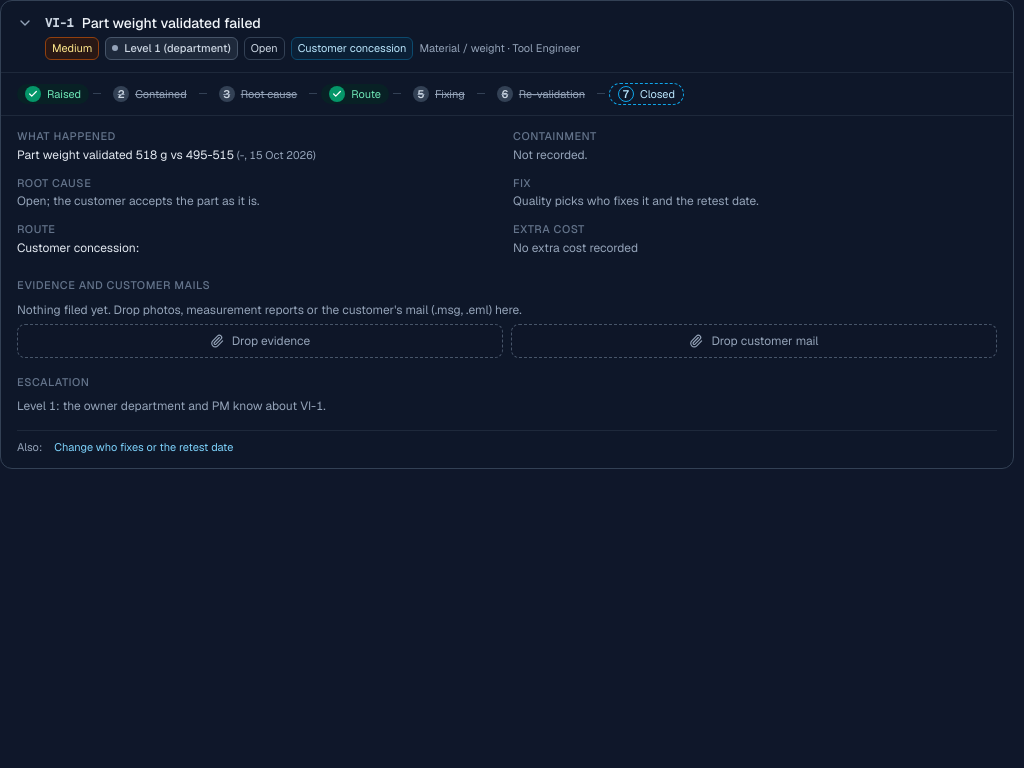
Scenario: Fix task › after the pick (and beside a concession) Quality may change it: a quiet re-pick
Step 1. Click the button with test id "issue-act-refix-11" → (144, 447), box [54,439,233,456]
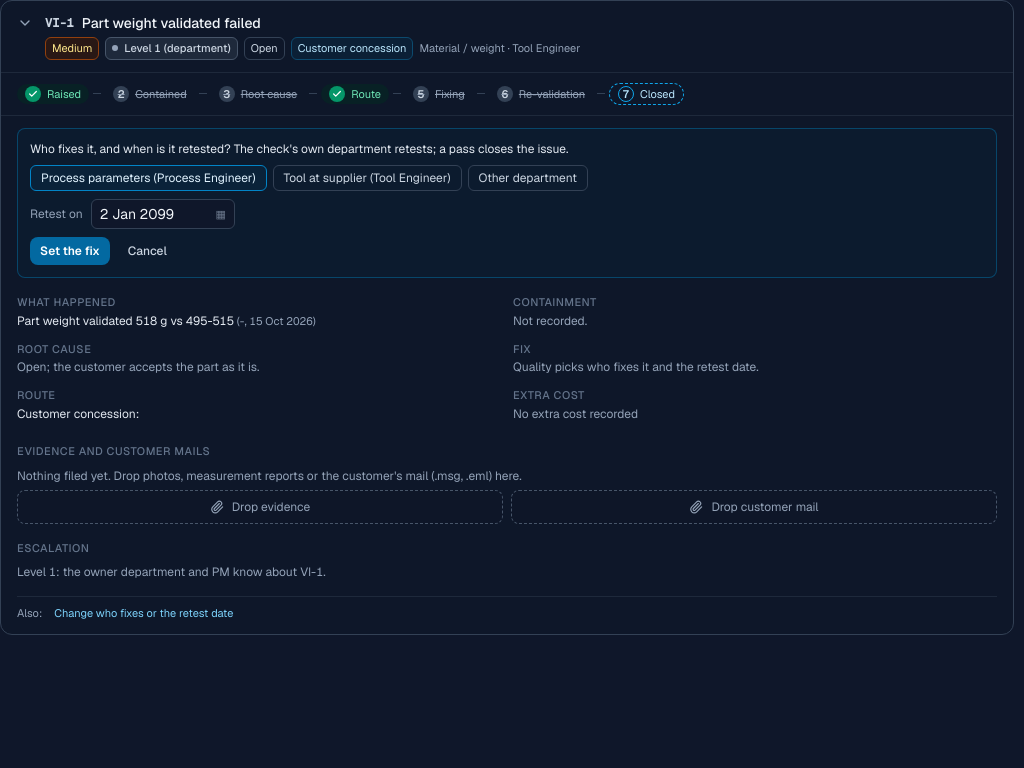
Expected: the element with test id "issue-fix-form-11" is shown, [17,128,997,278]
Expected: the button with test id "fix-submit" is enabled, [30,237,110,265]
